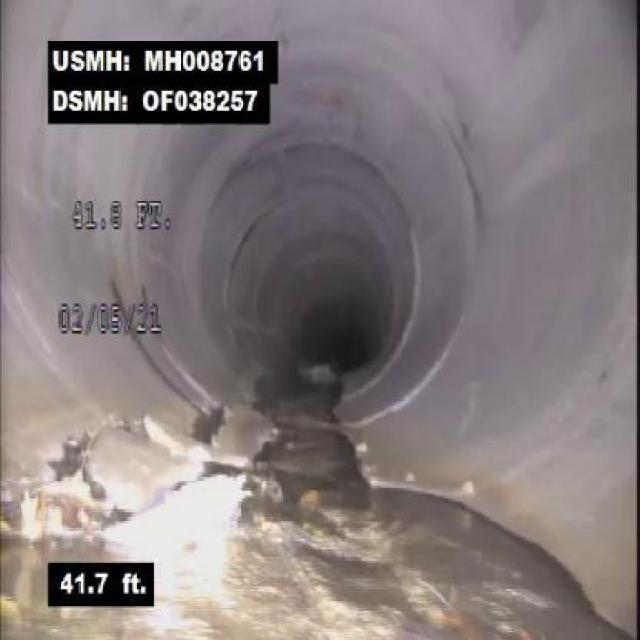Buckling: (38, 397, 284, 554)
